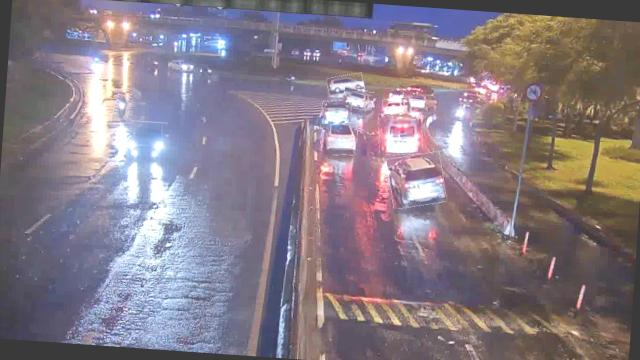Bike: (112, 91, 131, 119)
Bus: (376, 110, 424, 156)
Car: (386, 150, 448, 209), (128, 120, 168, 160), (320, 118, 358, 156), (326, 72, 364, 96), (322, 99, 352, 125), (342, 87, 374, 110), (382, 96, 411, 118)
